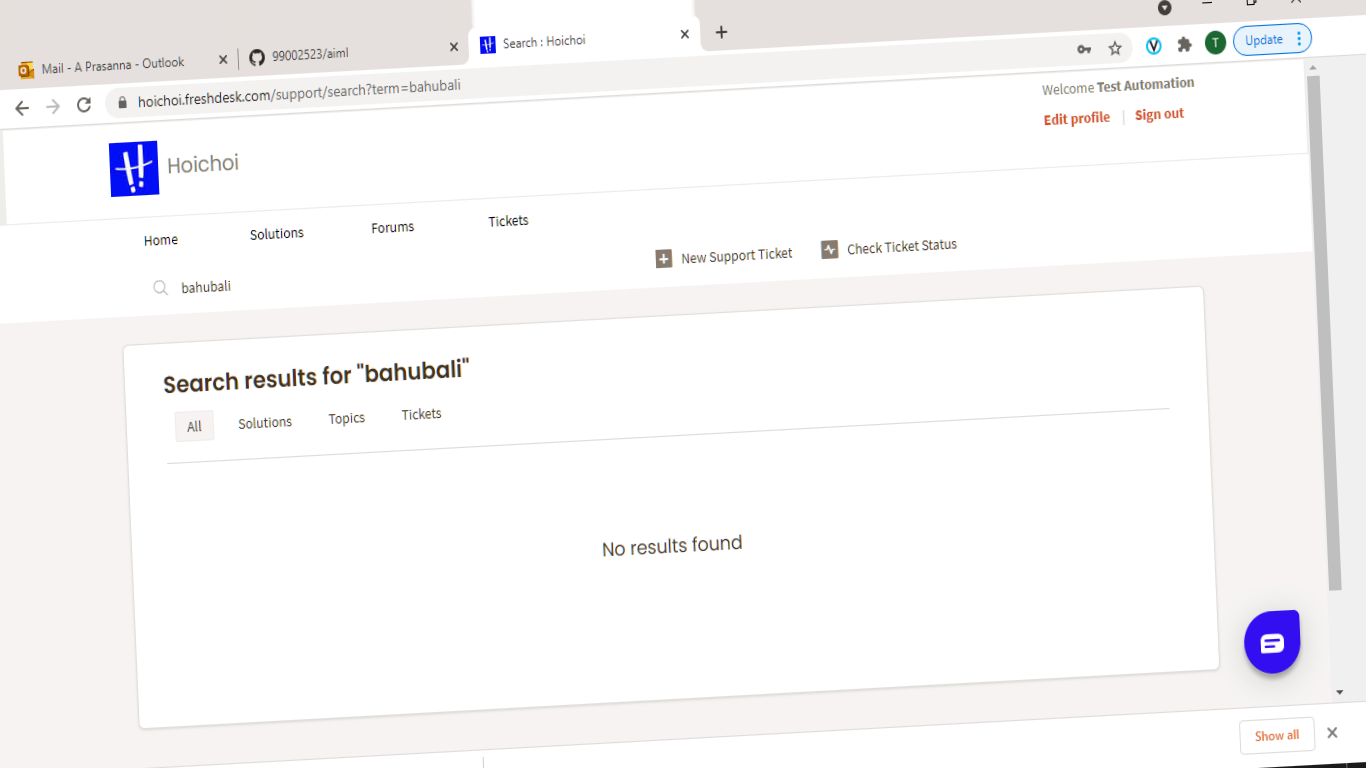noresultsfound: (546, 511, 807, 578), (159, 359, 485, 403)
profileicon: (1034, 105, 1137, 133)
searchicon: (137, 270, 183, 308)
searchtextbox: (135, 264, 579, 320)
